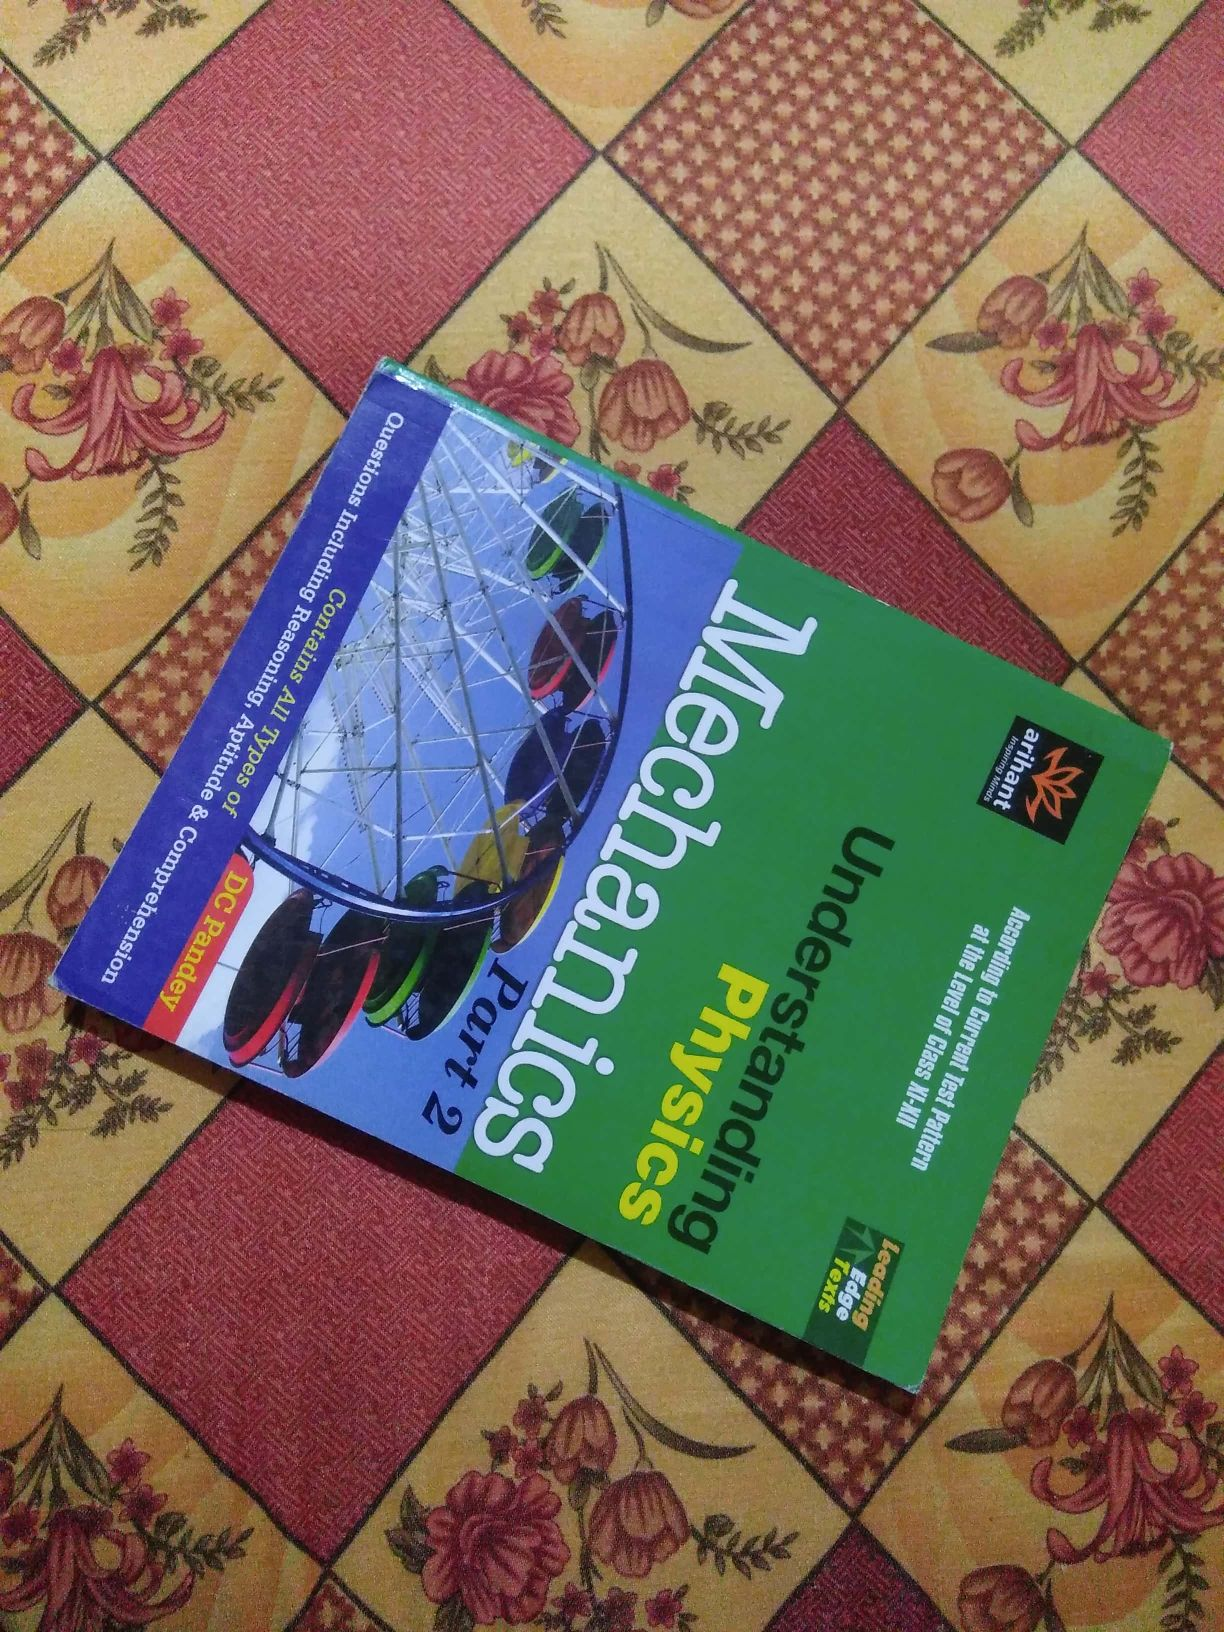mechanics: (24, 353, 1194, 1372)
